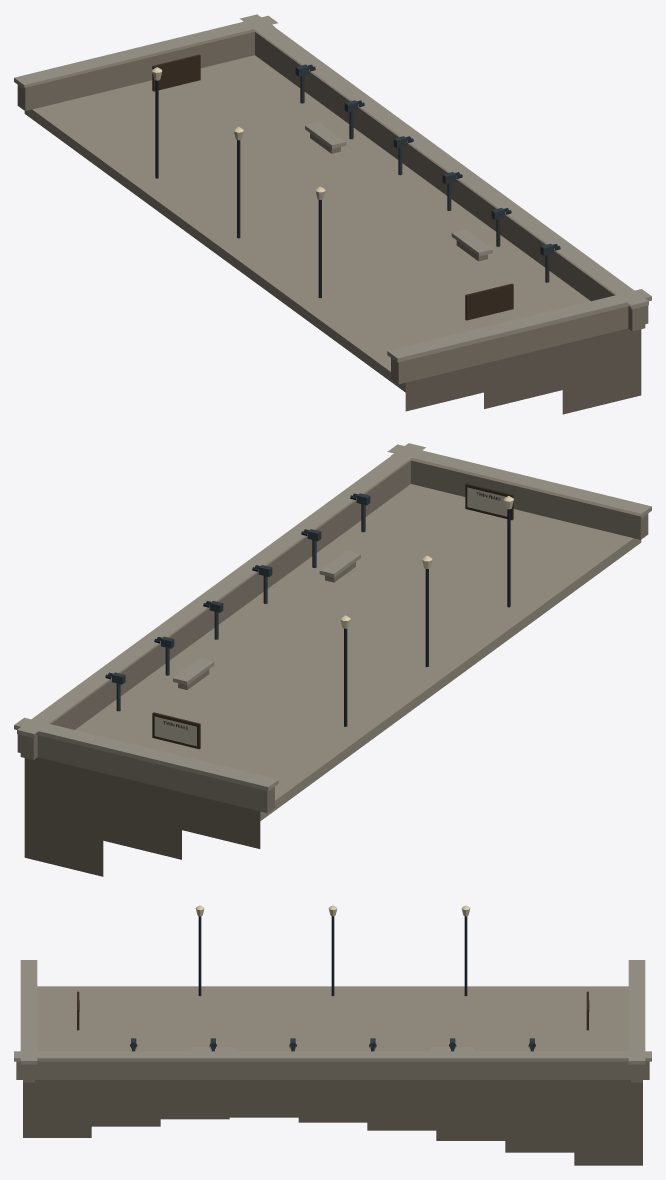
File: twinPeaks_lod0.glb
3 renders of one model, top to bottom at view 1: azimuth 30°, elevation 25°; view 2: azimuth 150°, elevation 25°; view 3: azimuth 270°, elevation 25°, orthographic. The views are drawn at different scales.
Parts seen in each view (by area): view 1: L0_paving, L0_stone, L0_granite, L0_metal; view 2: L0_paving, L0_stone, L0_granite, L0_metal, L0_paint; view 3: L0_stone, L0_paving, L0_granite, L0_metal.
Part boxes in pixels (x1,y1,x2,y2): L0_paving: (24, 55, 590, 392); L0_stone: (17, 25, 648, 414); L0_granite: (14, 14, 651, 362); L0_metal: (152, 54, 560, 320); L0_paving: (75, 484, 641, 820); L0_stone: (17, 454, 648, 876); L0_granite: (14, 443, 651, 791); L0_metal: (105, 483, 513, 749); L0_paint: (154, 487, 507, 746); L0_stone: (16, 1061, 649, 1165); L0_paving: (37, 986, 628, 1051); L0_granite: (14, 960, 651, 1064); L0_metal: (77, 916, 588, 1051).
Bounding box in the file's own units: 10.8 × 8.77 × 28.8.
